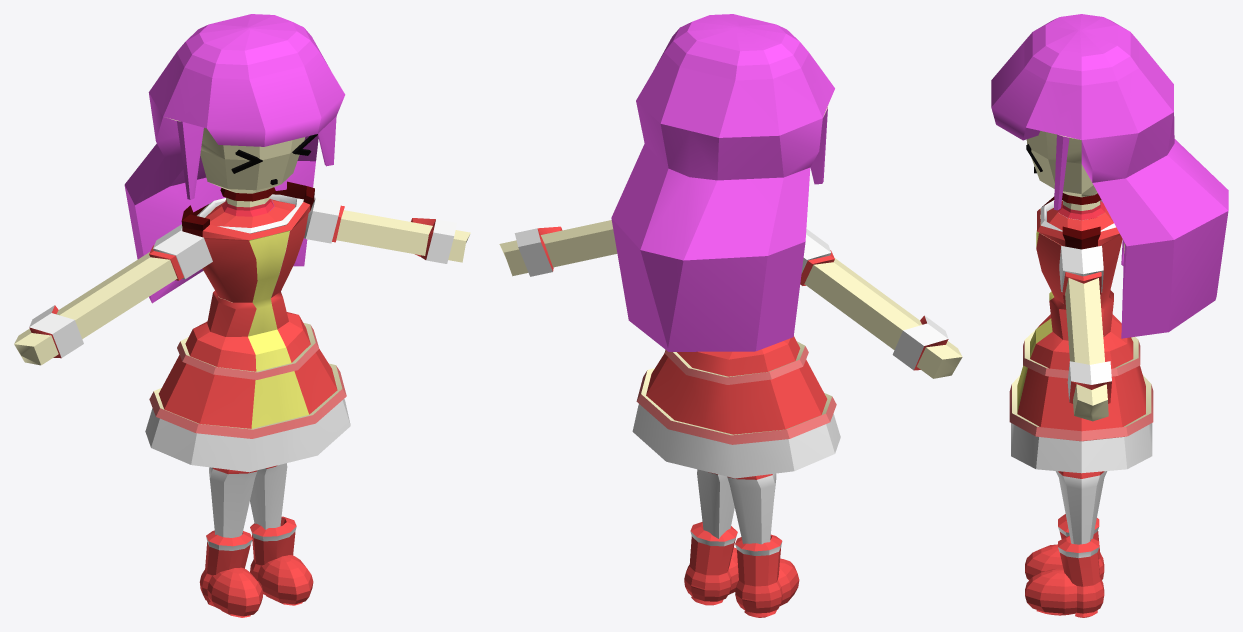
3 views of the same model, side by side, from view 1: azimuth 30°, elevation 25°; view 2: azimuth 150°, elevation 25°; view 3: azimuth 270°, elevation 25° (orthographic).
Parts seen in each view (by area): view 1: occhi; view 2: occhi; view 3: occhi.
Part boxes in pixels (x1=…): occhi: x1=14, y1=14, x2=470, y2=617; occhi: x1=499, y1=14, x2=962, y2=617; occhi: x1=991, y1=14, x2=1228, y2=617.
Bounding box in the file's own units: 7.77 × 9.32 × 3.51.
